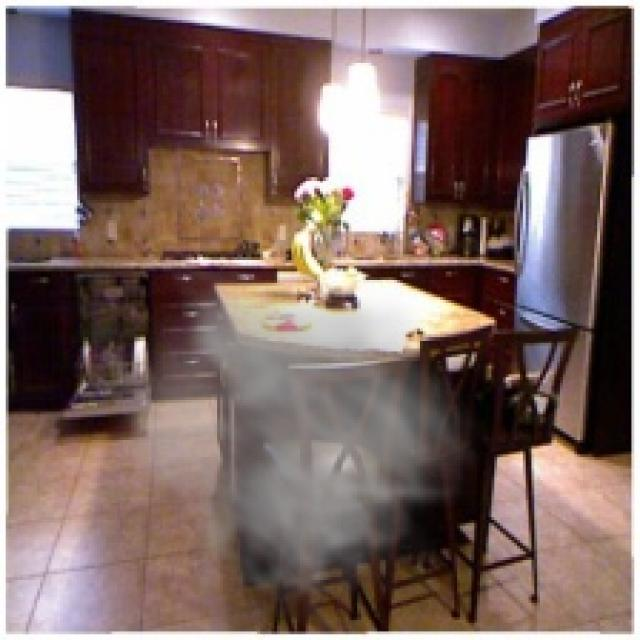smoke: (100, 272, 489, 637)
